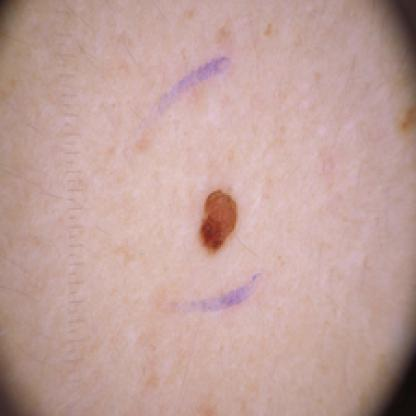benign: (184, 169, 258, 266)
